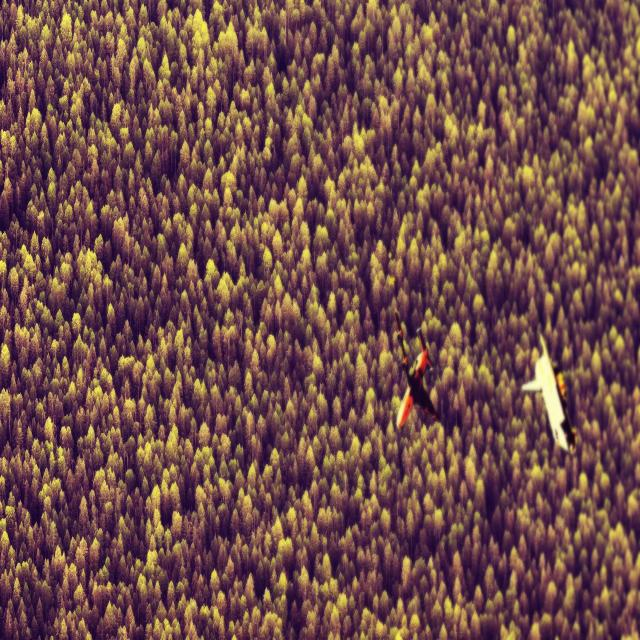airplane: (521, 333, 577, 455), (393, 310, 439, 429)
